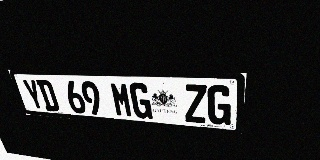6: (63, 80, 87, 114)
9: (79, 81, 104, 115)
D: (36, 80, 61, 112)
G: (208, 85, 232, 125), (129, 82, 153, 119)
M: (109, 82, 134, 118)
Y: (21, 79, 46, 110)
Z: (184, 84, 207, 124)
